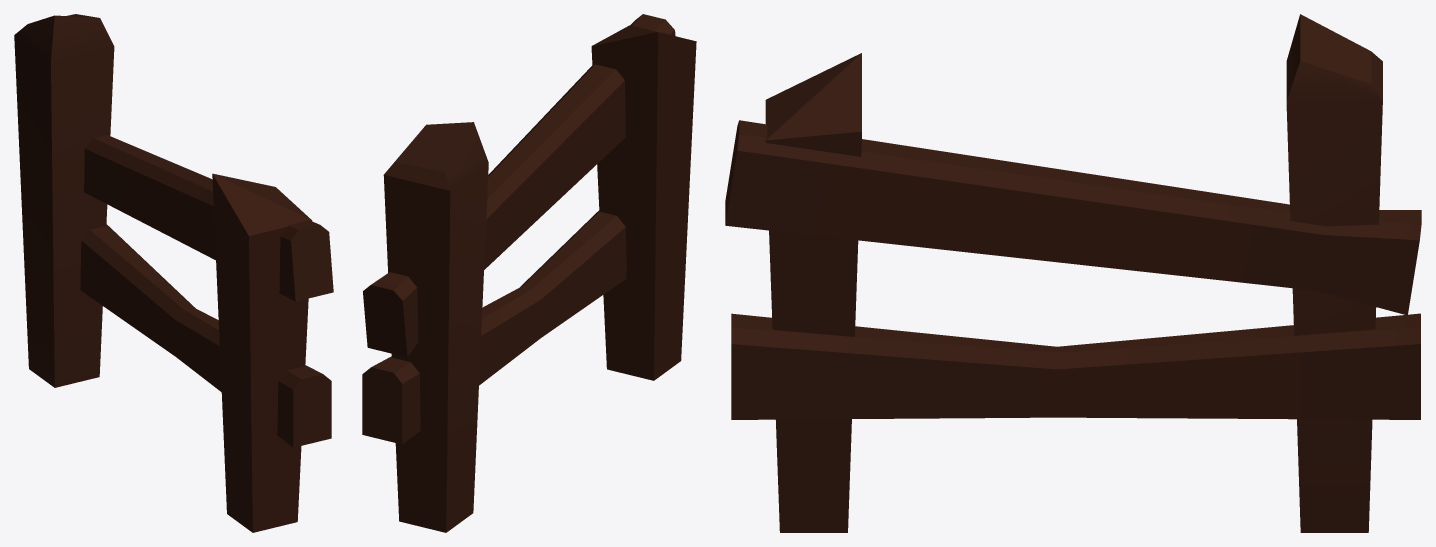
File: SM_Fence4_Full.FBX
3 renders of one model, left to right at view 1: azimuth 30°, elevation 25°; view 2: azimuth 150°, elevation 25°; view 3: azimuth 270°, elevation 25°, orthographic. The views are drawn at different scales.
Visible parts, largest first — view 1: Box001; view 2: Box001; view 3: Box001.
Boxes of the visible parts, <box> form: Box001: <box>14,14,333,532</box>; Box001: <box>362,14,696,532</box>; Box001: <box>725,14,1421,532</box>.
Bounding box in the file's own units: 1.09 × 5.61 × 7.22.
